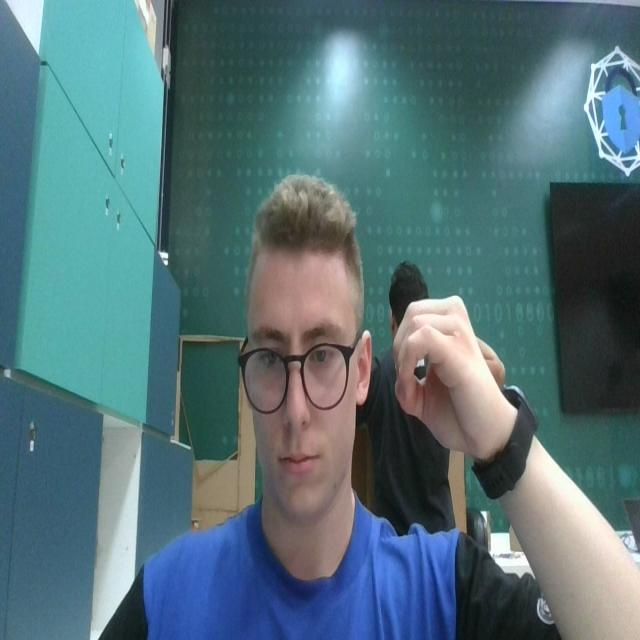O: (391, 286, 501, 455)
